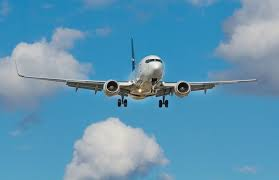maybay_dansu: (16, 41, 254, 113)
